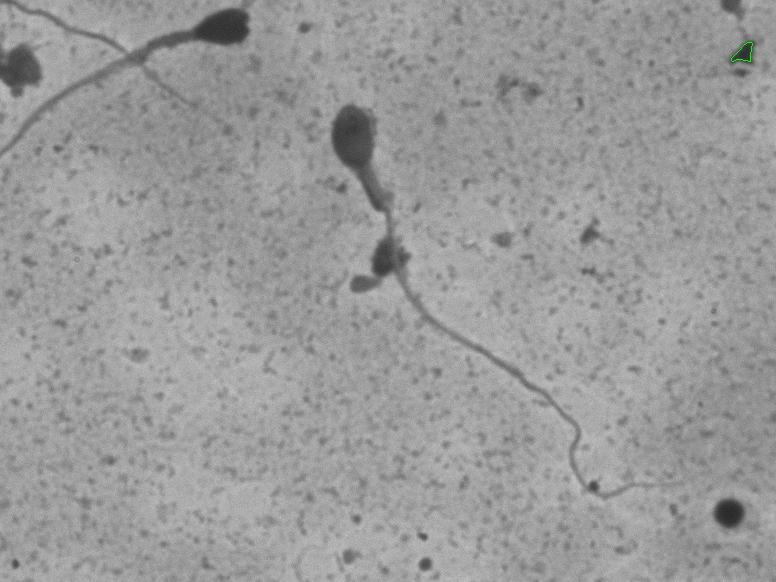Abnormal: (320, 79, 670, 515)
